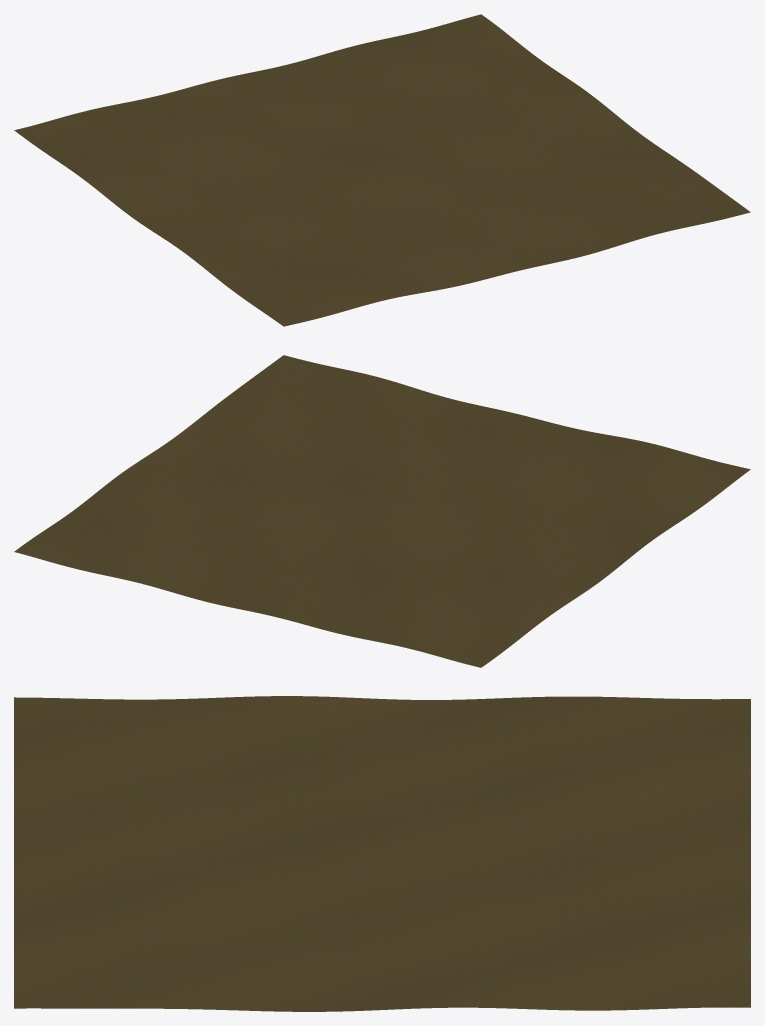
The model's file is forest_floor.obj.
3 views of the same model, one above another, from view 1: azimuth 30°, elevation 25°; view 2: azimuth 150°, elevation 25°; view 3: azimuth 270°, elevation 25° (orthographic). The views are drawn at different scales.
Visible parts, largest first — view 1: forest_floor; view 2: forest_floor; view 3: forest_floor.
Boxes of the visible parts, x1=… form: forest_floor: x1=14, y1=14, x2=750, y2=326; forest_floor: x1=14, y1=355, x2=750, y2=667; forest_floor: x1=14, y1=696, x2=750, y2=1011.
Size of the model in its own units: 200 by 2.19 by 200.
Materials: 1 (1 with a texture image).
